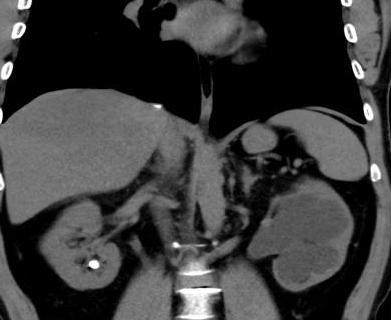Tas_Var: (84, 256, 104, 272)
